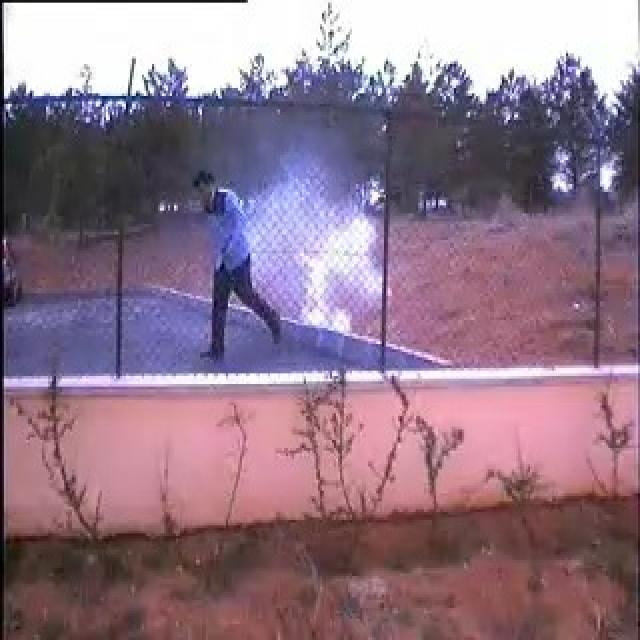smoke: (259, 182, 380, 324)
